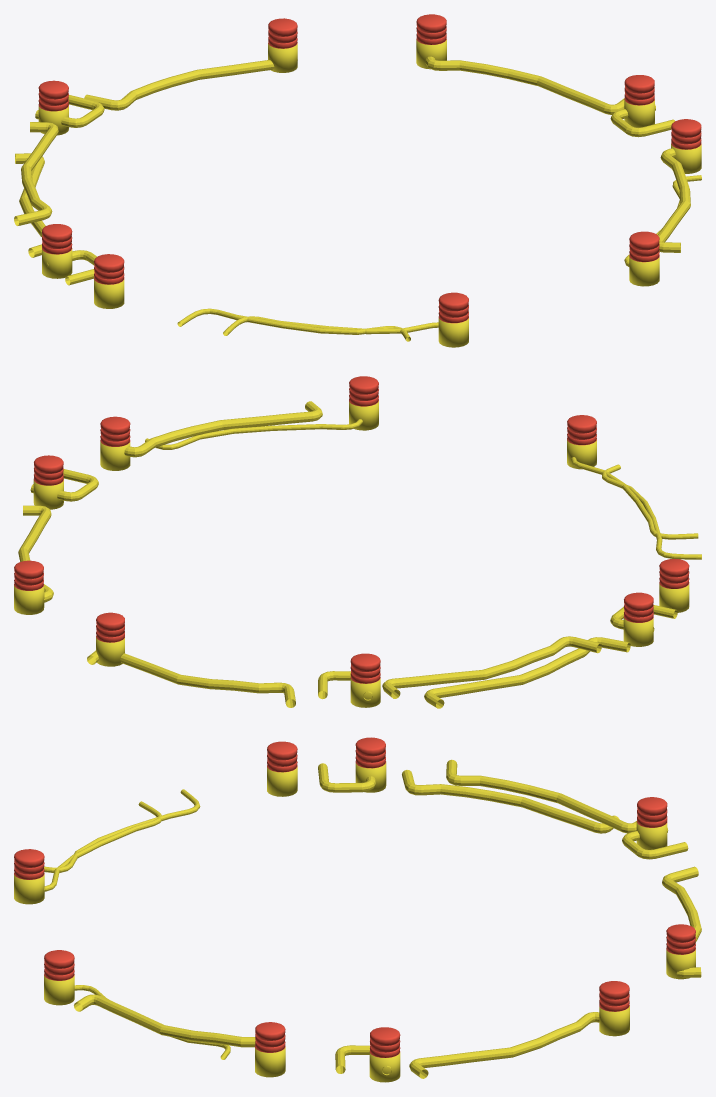
File: SM_Tuyaux.fbx
3 views of the same model, one above another, from view 1: azimuth 30°, elevation 25°; view 2: azimuth 150°, elevation 25°; view 3: azimuth 270°, elevation 25° (orthographic).
Parts seen in each view (by area): view 1: SM_Tuyaux; view 2: SM_Tuyaux; view 3: SM_Tuyaux.
Part boxes in pixels (x1,y1,x2,y2): SM_Tuyaux: (14,14,701,347); SM_Tuyaux: (14,376,701,708); SM_Tuyaux: (14,737,701,1082).
Bounding box in the file's own units: 16254 × 1269 × 15568.
